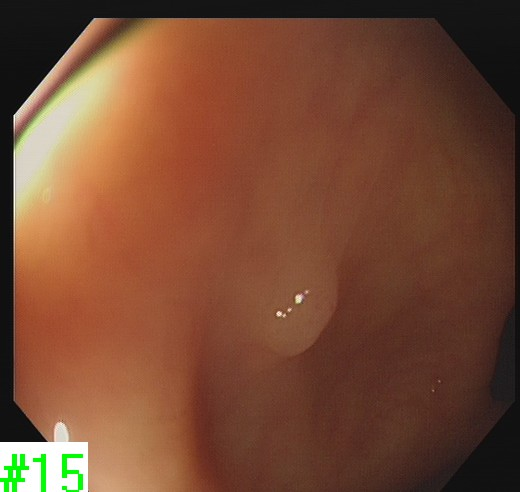adenoma: (247, 258, 342, 359)
